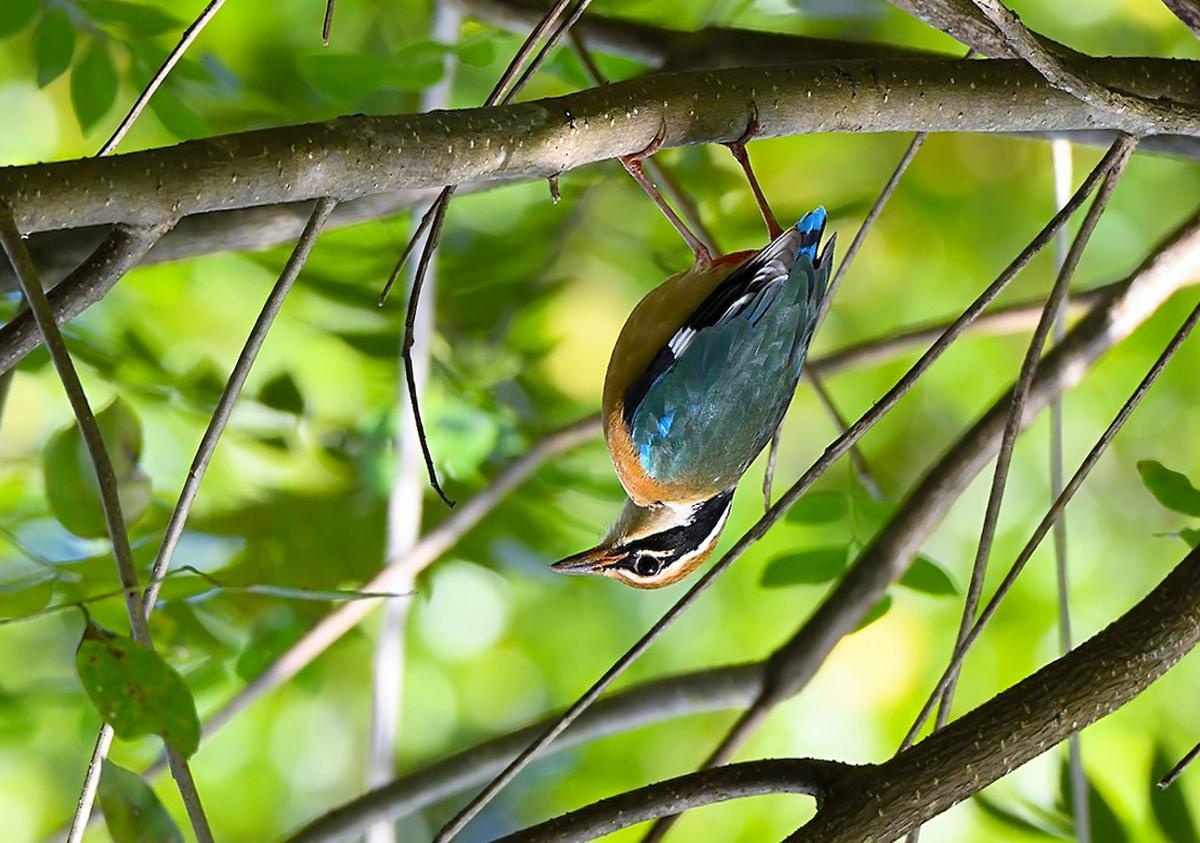pitta: (536, 204, 838, 621)
